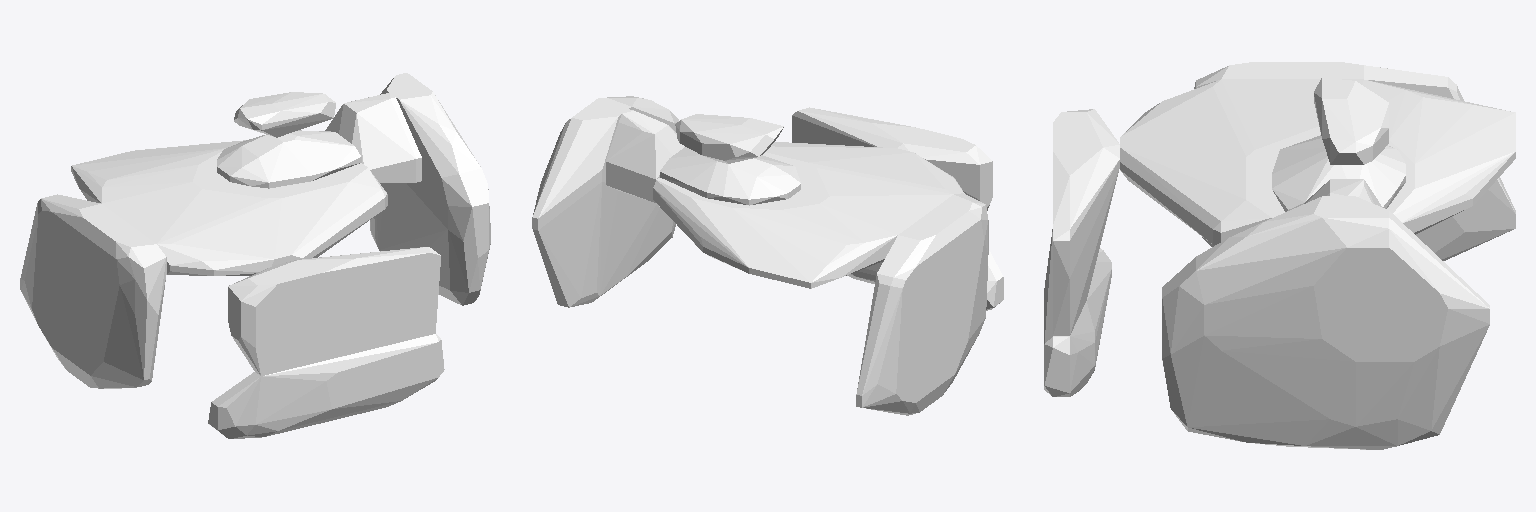
URDF robot description (three.urdf):
<?xml version="1.0" ?>
<robot name="three.urdf">
  <link name="baseLink">
    <inertial>
      <origin rpy="0 0 0" xyz="0 0 0"/>
       <mass value="0.0"/>
       <inertia ixx="0" ixy="0" ixz="0" iyy="0" iyz="0" izz="0"/>
    </inertial>
    <visual>
      <origin rpy="0 0 0" xyz="0 0 0"/>
      <geometry>
        <mesh filename="three.obj" scale="1.0 1.0 1.0"/>
      </geometry>
      <material name="white">
       <color rgba="1 1 1 1"/>
     </material>
    </visual>
    <collision>
      <origin rpy="0 0 0" xyz="0 0 0"/>
      <geometry>
        <mesh filename="three.obj" scale="1.0 1.0 1.0"/>
        <!-- You could also specify the collision (for the three) with a "box" tag: -->
        <!-- <box size=".06 .06 .06"/> -->
      </geometry>
    </collision>
  </link>
</robot>
        

--- What the picture shows (computed from the rendered views, not written in the file) ---
Views: 3 orthographic renders of the robot side by side, from view 1: azimuth 30°, elevation 25°; view 2: azimuth 150°, elevation 25°; view 3: azimuth 270°, elevation 25°.
Robot: three.urdf — 1 links, 0 joints (none); root link baseLink; default pose: all joints at 0.
Links seen in each view (by area): view 1: baseLink; view 2: baseLink; view 3: baseLink.
Boxes of the visible links, x1,y1,x2,y2 form: baseLink: [20, 73, 490, 438]; baseLink: [532, 96, 1003, 415]; baseLink: [1044, 62, 1515, 449].
Bounding box of the posed robot: 0.147 × 0.1286 × 0.0896 m (x, y, z).
Meshes: 1 distinct files referenced, 1 mesh visuals loaded (1 OBJ).